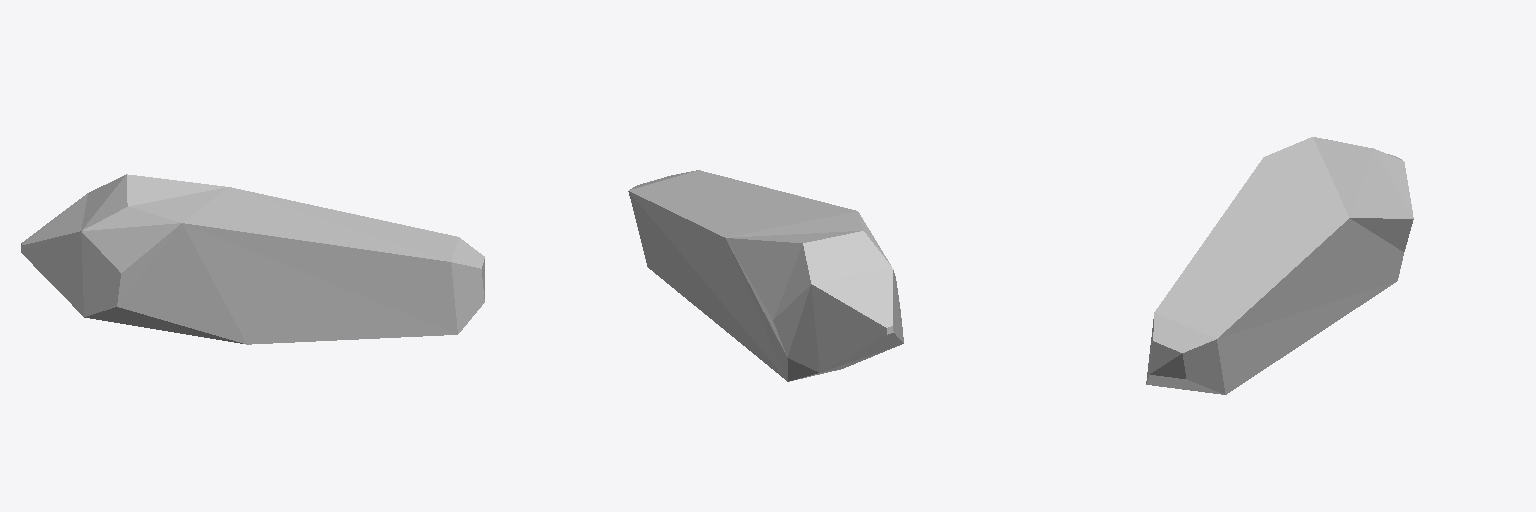
The model's file is Crystal2.obj.
3 views of the same model, side by side, from view 1: azimuth 30°, elevation 25°; view 2: azimuth 150°, elevation 25°; view 3: azimuth 270°, elevation 25° (orthographic).
Parts seen in each view (by area): view 1: shard_of_ore_4_Cube.058; view 2: shard_of_ore_4_Cube.058; view 3: shard_of_ore_4_Cube.058.
Boxes of the visible parts, <box> form: shard_of_ore_4_Cube.058: <box>21,174,484,344</box>; shard_of_ore_4_Cube.058: <box>628,170,903,381</box>; shard_of_ore_4_Cube.058: <box>1146,137,1413,394</box>.
Size of the model in its own units: 0.5317 by 0.1892 by 0.3417.